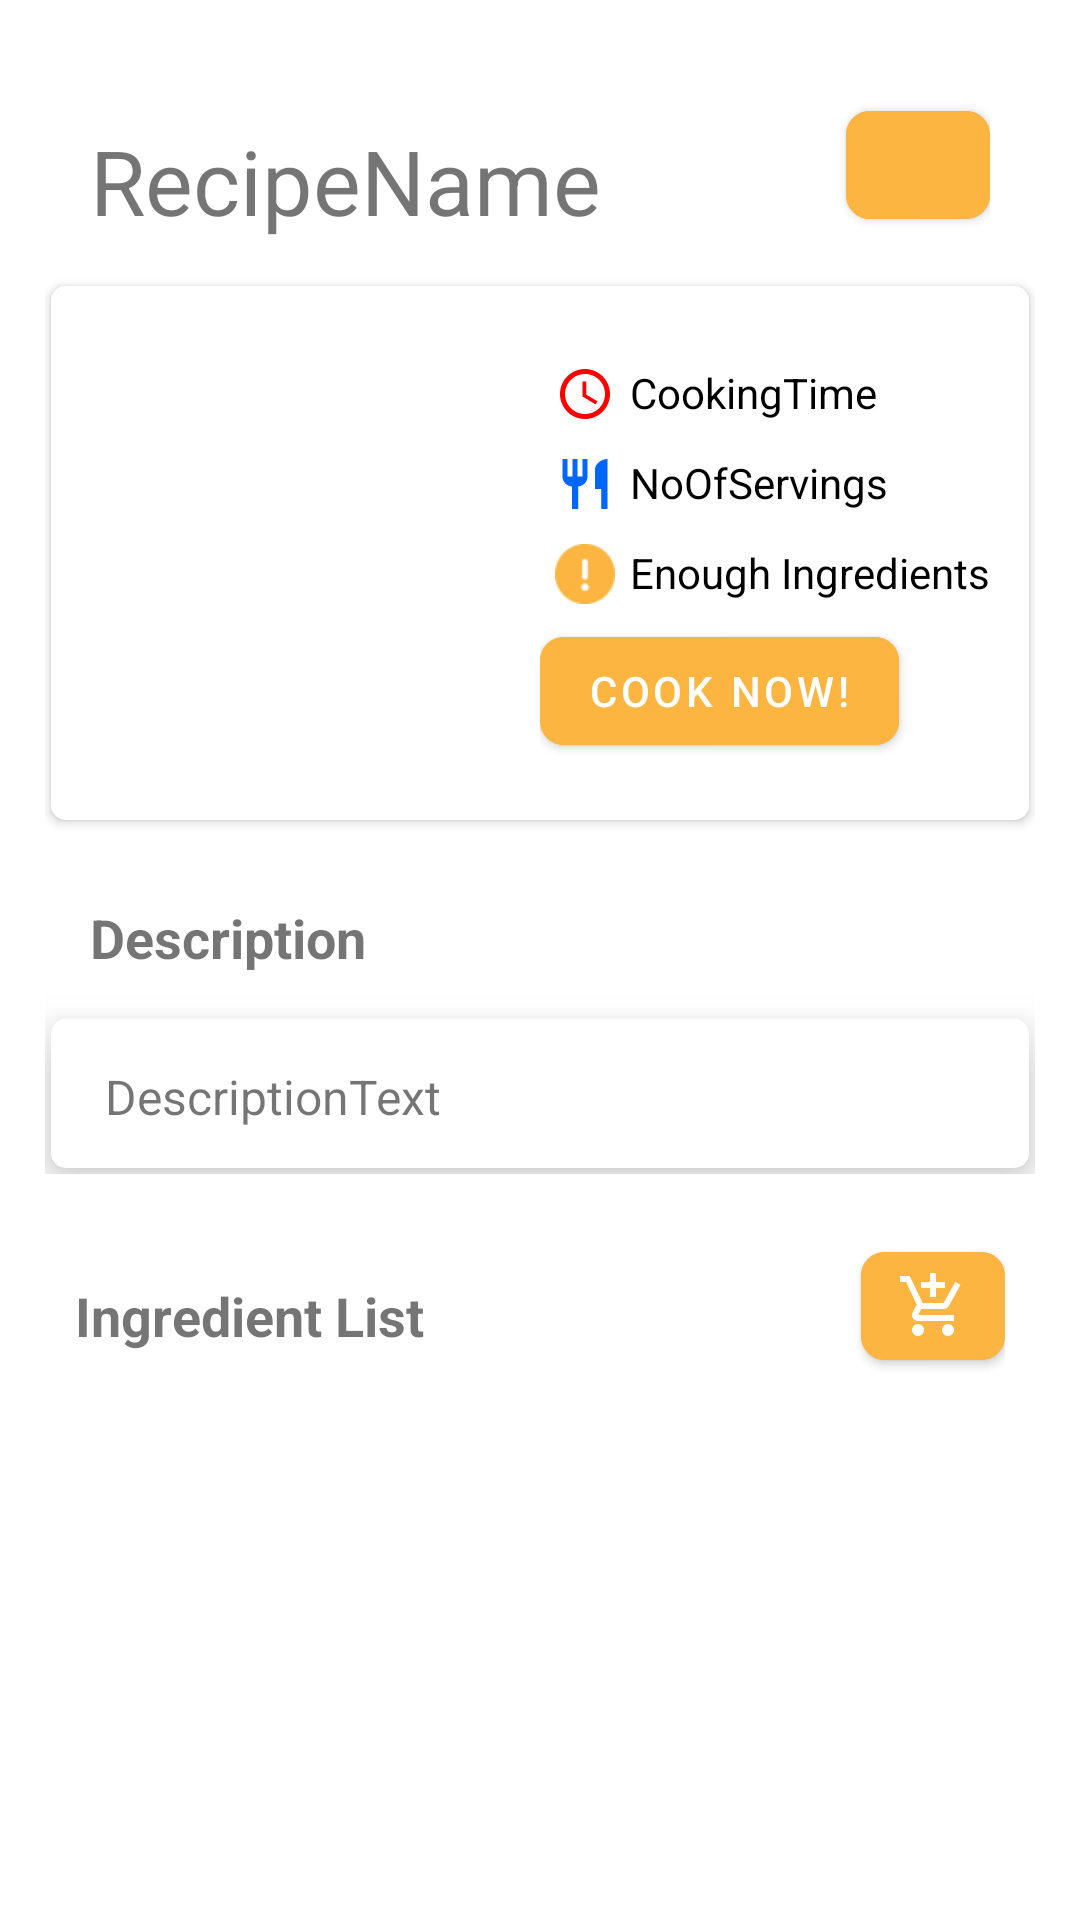

Named icons in this screenshot (1080x1920) and their bounding boxes, (x1, y1, x2, y2):
access time: (560, 369, 610, 419)
add shopping cart: (861, 1252, 1005, 1364)
low stock: (555, 544, 615, 604)
restaurant: (562, 459, 608, 509)
